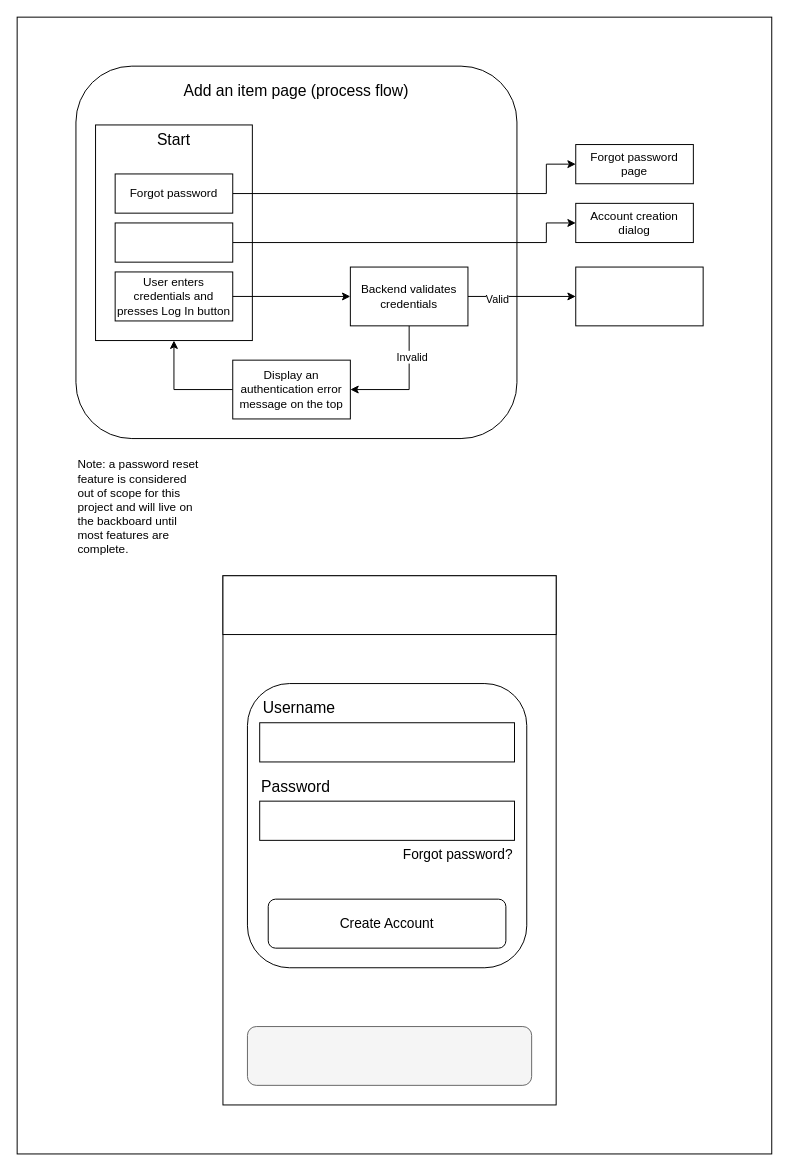
This 789x1171 diagram has some shape labels left out. Each missing label, with the centre of its shape:
"Create a new account" goes at (173,242).
"Login" goes at (389,1055).
"Pantry Inventory" goes at (389,605).
"User's inventory view via the Inventory page" goes at (639,296).
